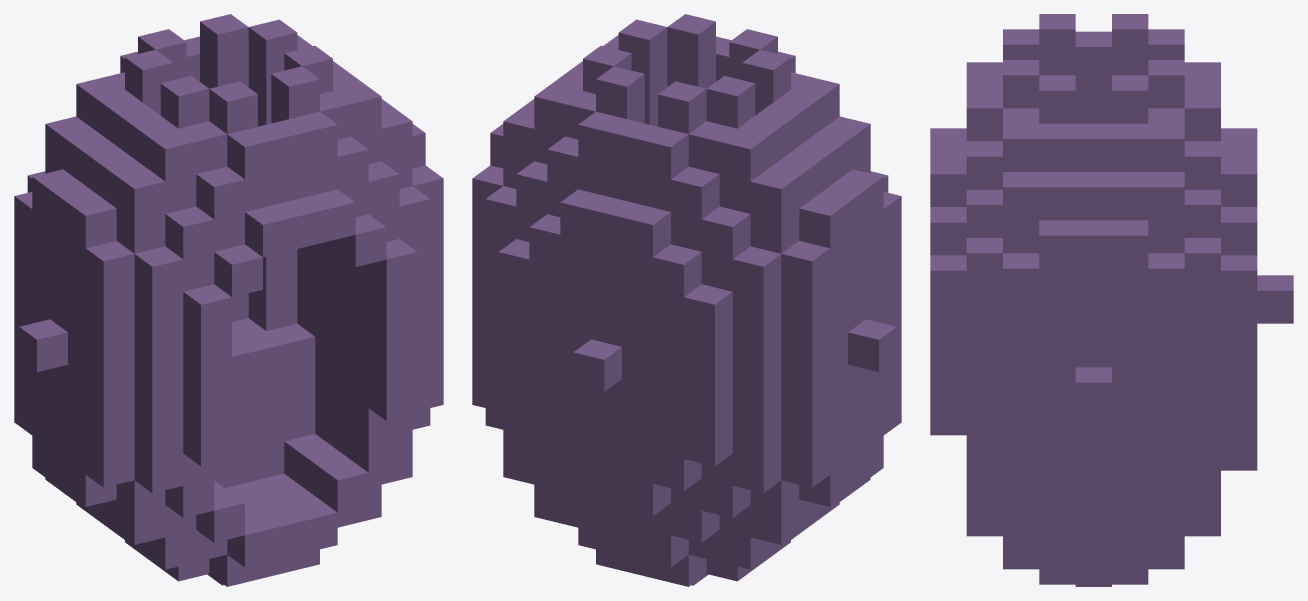
The model's file is alien-biosphere-tree-cavity-a17ec0d7__22790.glb.
The picture shows the model from 3 angles, left to right: view 1: azimuth 30°, elevation 25°; view 2: azimuth 150°, elevation 25°; view 3: azimuth 270°, elevation 25°; orthographic projection.
Visible parts, largest first — view 1: tree-cavity; view 2: tree-cavity; view 3: tree-cavity.
Part boxes in pixels (x1=…): tree-cavity: x1=14, y1=14, x2=443, y2=586; tree-cavity: x1=472, y1=14, x2=901, y2=586; tree-cavity: x1=930, y1=14, x2=1293, y2=586.
Size of the model in its own units: 2.34 by 2.88 by 1.8.
